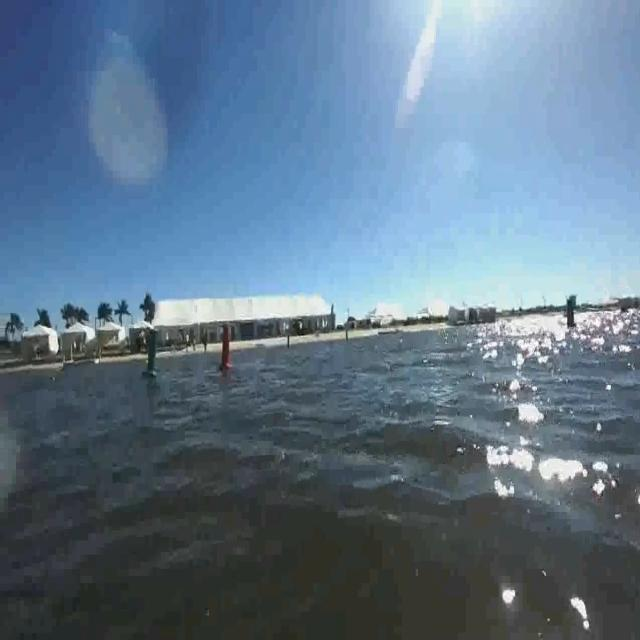green-column-buoy: (142, 327, 161, 378)
red-column-buoy: (218, 326, 233, 372)
